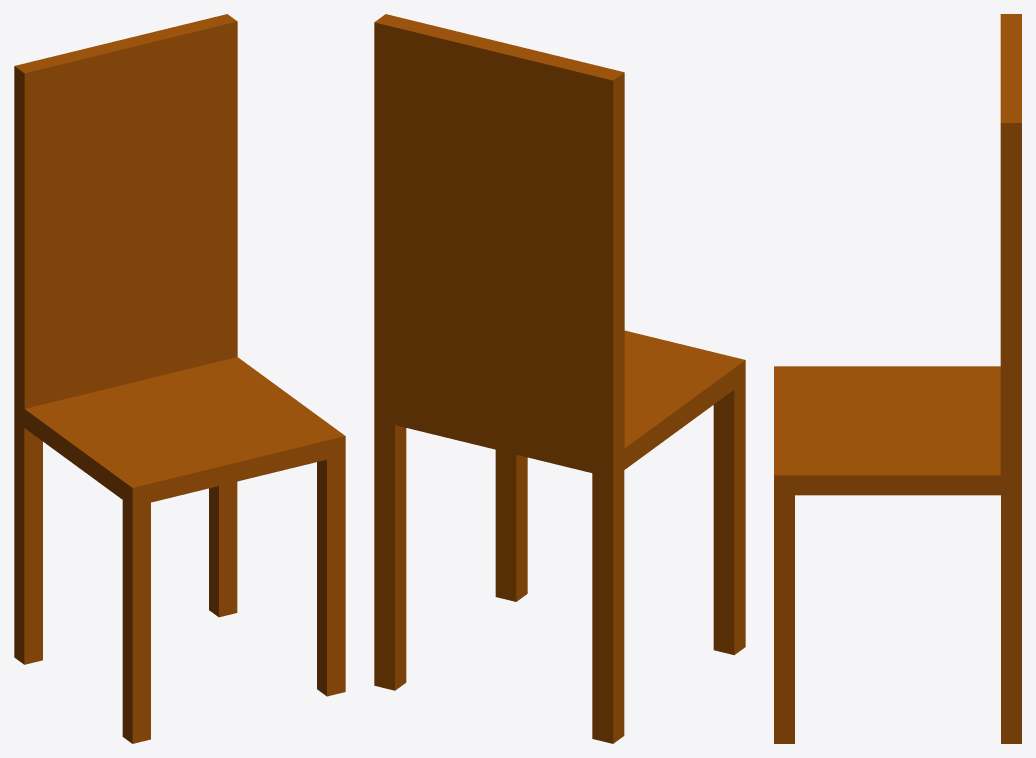
Rendered from KitchenChair.fbx.
The picture shows the model from 3 angles, left to right: view 1: azimuth 30°, elevation 25°; view 2: azimuth 150°, elevation 25°; view 3: azimuth 270°, elevation 25°; orthographic projection. The views are drawn at different scales.
Visible parts, largest first — view 1: Cube.001; view 2: Cube.001; view 3: Cube.001.
Boxes of the visible parts, x1,y1,x2,y2 form: Cube.001: (14,14,345,743); Cube.001: (374,14,745,743); Cube.001: (774,14,1021,743).
Bounding box in the file's own units: 99.31 × 95.39 × 264.
